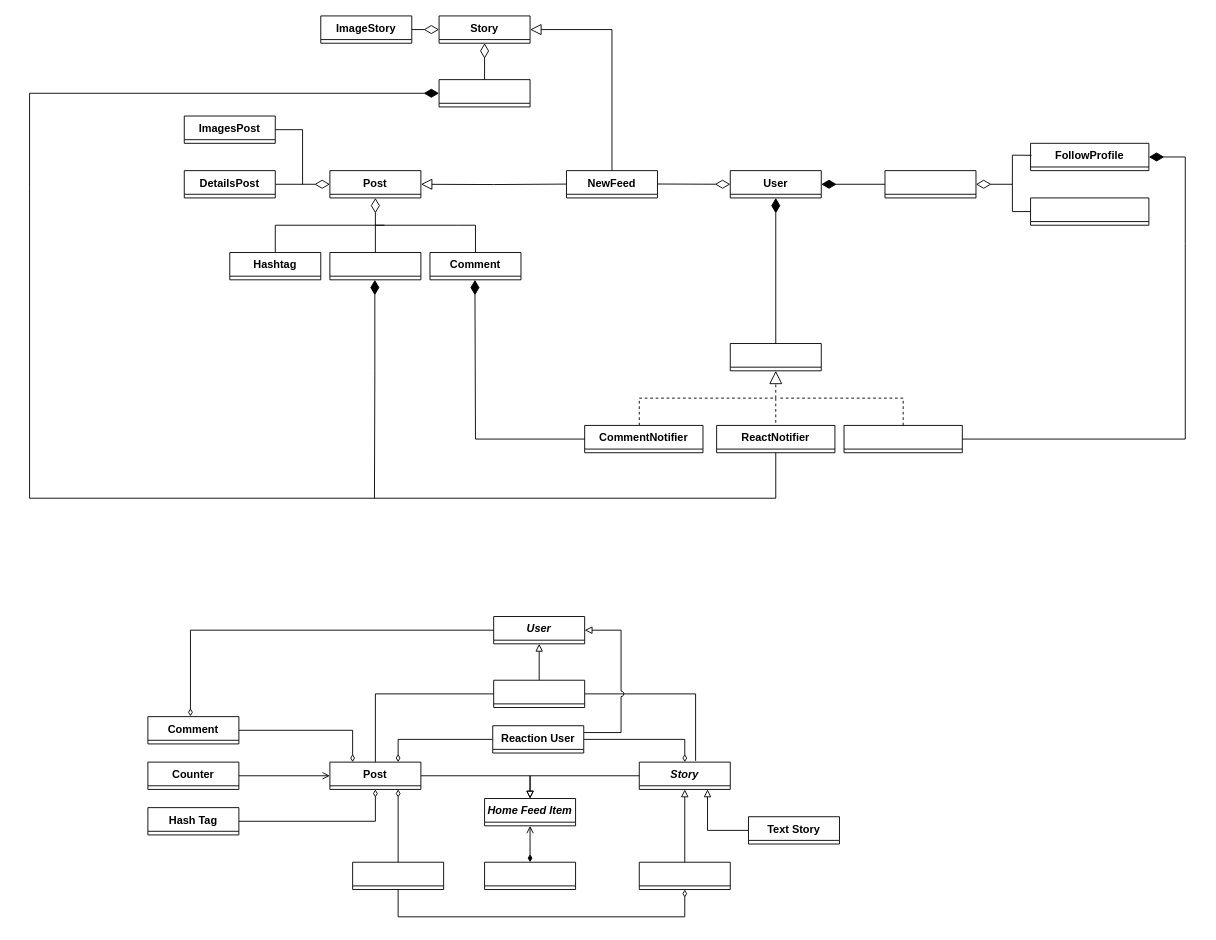
The diagram is 1216 pixels wide and 940 high, and some of its shapes have lost their labels. Here are the shapes that lost their labels. From the top down, the centre of each, then its label:
At point (484, 93): "ReactStory".
At point (930, 184): "Profile".
At point (1089, 211): "UnfollowProfile".
At point (375, 266): "ReactPost".
At point (775, 357): "Notifier".
At point (902, 439): "FollowNotifier".
At point (539, 693): "Author".
At point (398, 875): "Image".
At point (530, 875): "Home Feed".
At point (684, 875): "Image Story".
